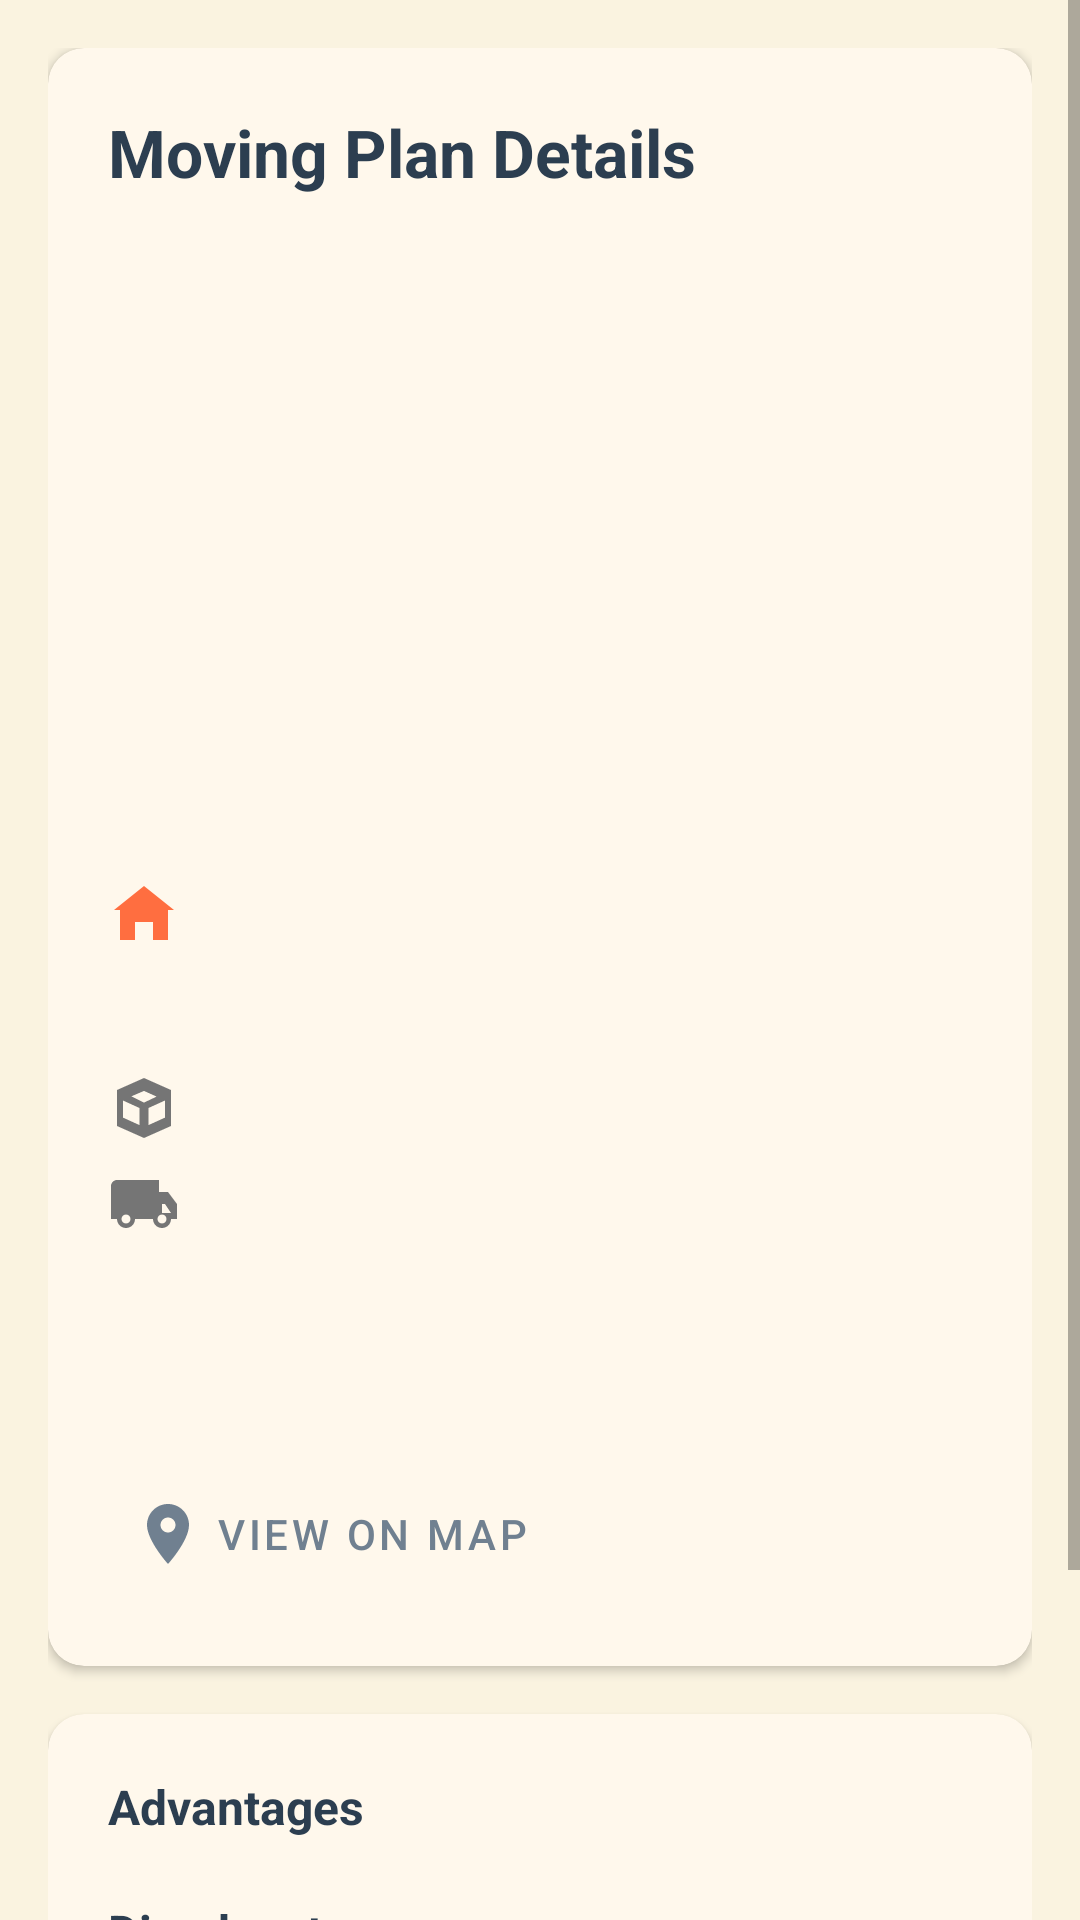

Icons on this 1080x1920 Android screen, each with its box as (x1, y1, x2, y2):
House: (114, 886, 174, 940)
Packing: (117, 1078, 171, 1138)
Transport: (111, 1180, 177, 1228)
